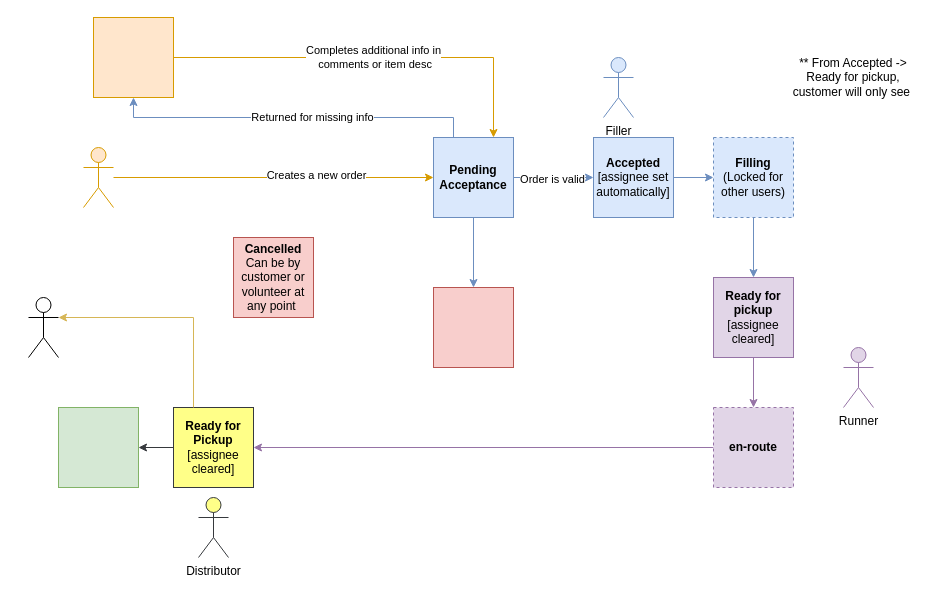
The diagram is 941 pixels wide and 611 high, and some of its shapes have lost their labels. The centre of each missing label's shape, as x and y in pixels:
"Completed" goes at [98,447].
"Customer" goes at [43,327].
"Needs Info" goes at [133,57].
"Order Taker" goes at [98,177].
"Rejected for some reason, the order can't be fulfilled" goes at [473,327].
